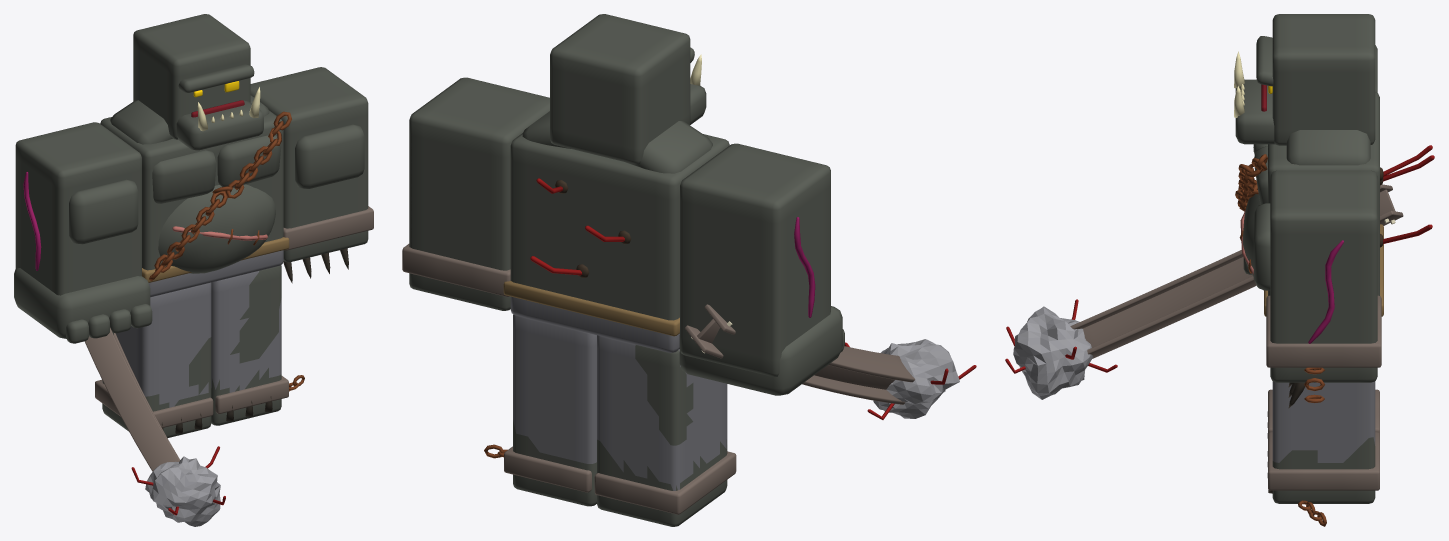
File: zombi_gigante_hd.obj
The picture shows the model from 3 angles, left to right: view 1: azimuth 30°, elevation 25°; view 2: azimuth 150°, elevation 25°; view 3: azimuth 270°, elevation 25°; orthographic projection. The views are drawn at different scales.
Visible parts, largest first — view 1: Right_Arm, Torso, Left_Arm, Head, Right_Leg, Left_Leg, Arma; view 2: Torso, Right_Arm, Left_Arm, Right_Leg, Head, Left_Leg, Arma; view 3: Left_Arm, Head, Left_Leg, Arma, Torso.
Part boxes in pixels (box(x1,y1,x2,y2)): Right_Arm: box(14, 122, 152, 343); Torso: box(100, 95, 291, 297); Left_Arm: box(250, 67, 373, 283); Head: box(133, 14, 263, 150); Right_Leg: box(95, 282, 213, 437); Left_Leg: box(211, 265, 304, 425); Arma: box(84, 327, 225, 526); Torso: box(503, 111, 729, 352); Right_Arm: box(679, 143, 844, 395); Left_Arm: box(402, 77, 549, 310); Right_Leg: box(594, 335, 736, 526); Head: box(550, 14, 706, 164); Left_Leg: box(484, 314, 596, 506); Arma: box(685, 304, 976, 419); Left_Arm: box(1253, 170, 1381, 408); Head: box(1234, 14, 1375, 145); Left_Leg: box(1267, 381, 1379, 526); Arma: box(1005, 184, 1403, 399); Torso: box(1235, 92, 1434, 316).
Size of the model in its own units: 10.86 by 11.78 by 10.56.
Materials: 1 (1 with a texture image).
